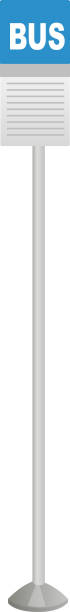light_pole: (26, 140, 49, 603)
